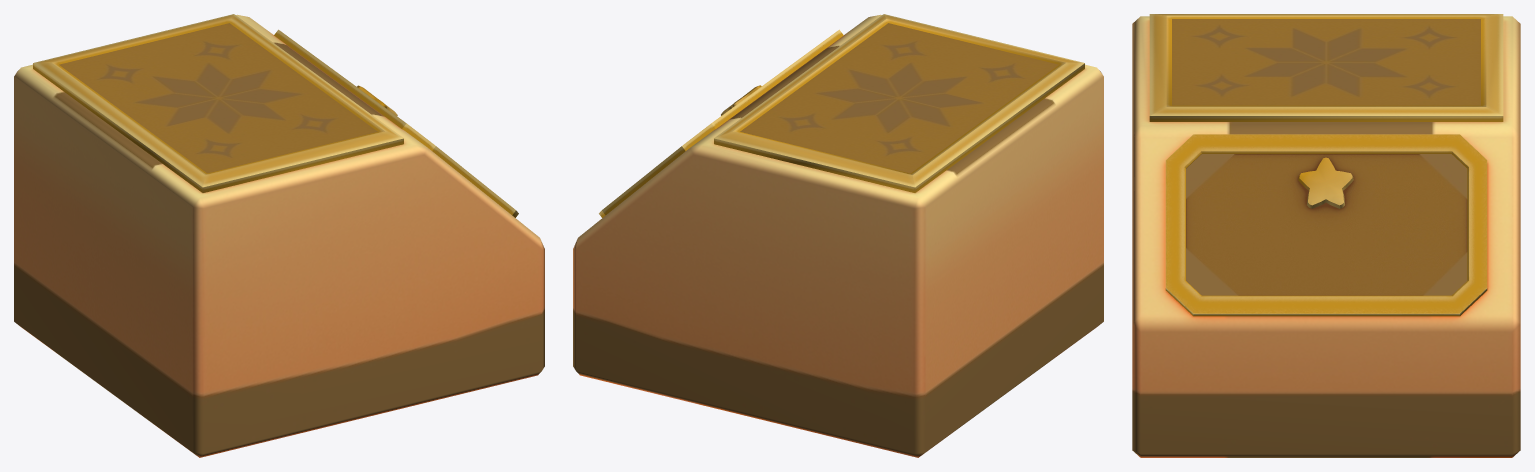
The model's file is hallOfFameStand.glb.
The picture shows the model from 3 angles, left to right: view 1: azimuth 30°, elevation 25°; view 2: azimuth 150°, elevation 25°; view 3: azimuth 270°, elevation 25°; orthographic projection. The views are drawn at different scales.
Parts seen in each view (by area): view 1: HallOfFame_Module; view 2: HallOfFame_Module; view 3: HallOfFame_Module.
Boxes of the visible parts, <box> form: HallOfFame_Module: <box>14,14,544,457</box>; HallOfFame_Module: <box>573,14,1103,457</box>; HallOfFame_Module: <box>1132,14,1520,457</box>.
Size of what is drawn, in the model's own units: 1.74 by 1.27 by 1.6.
Materials: 1 (1 with a texture image).
